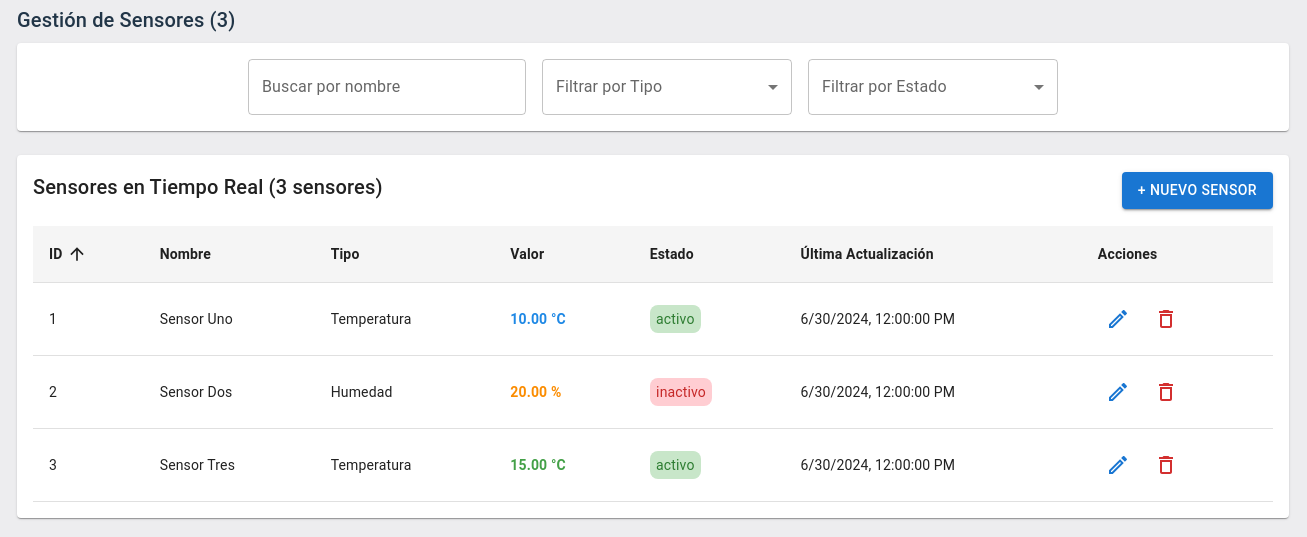
it: Dashboard › filtra sensores por estado
The image size is (1307, 537).
Step 1. Press the mouse on the dropdown named "filtrar por estado" next to "Filtrar por Estado" → (933, 87), box [808,59,1058,115]
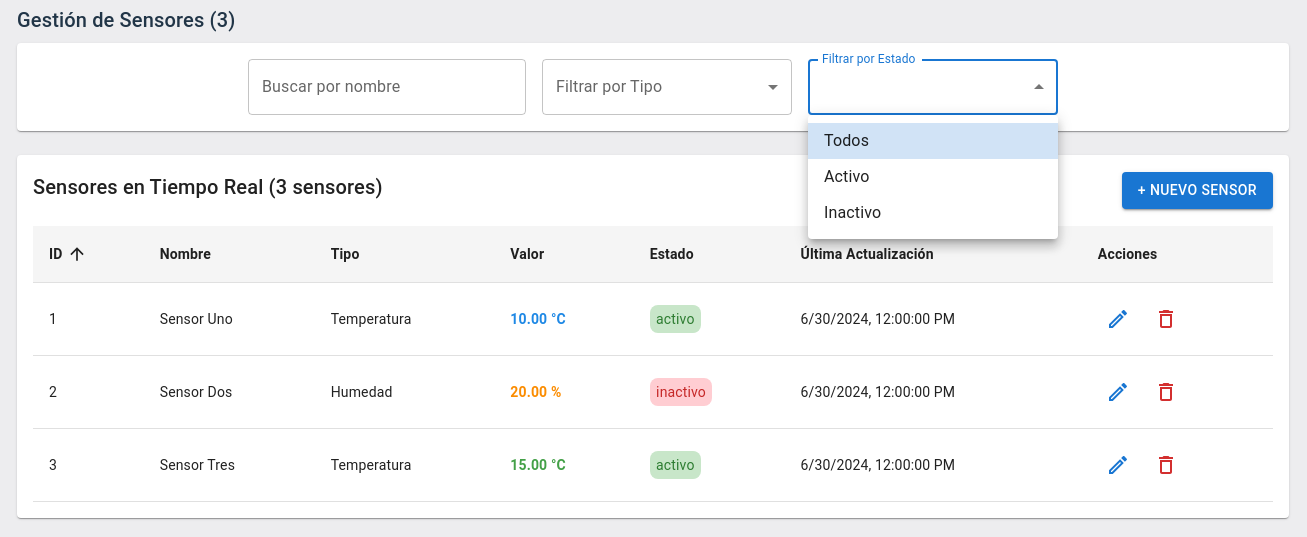
Step 2. Click the option "Activo" → (847, 176), box [824,167,870,186]
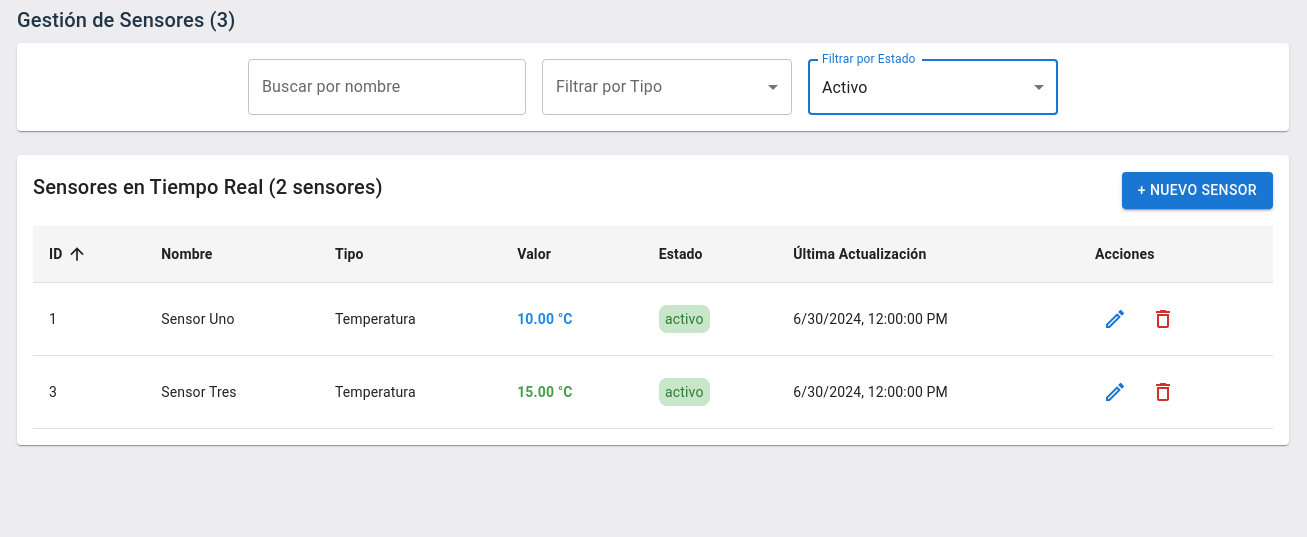
expect the text "Sensor Uno" is shown: met, box [145,282,319,356]
expect the text "Sensor Dos" is gone: met
